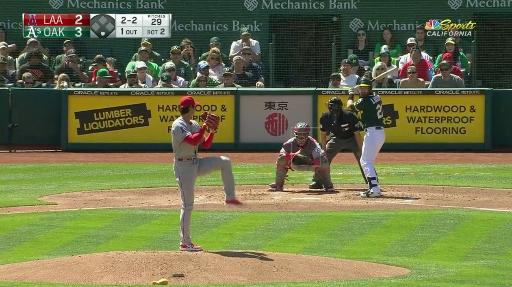pitcher: (171, 97, 245, 251)
